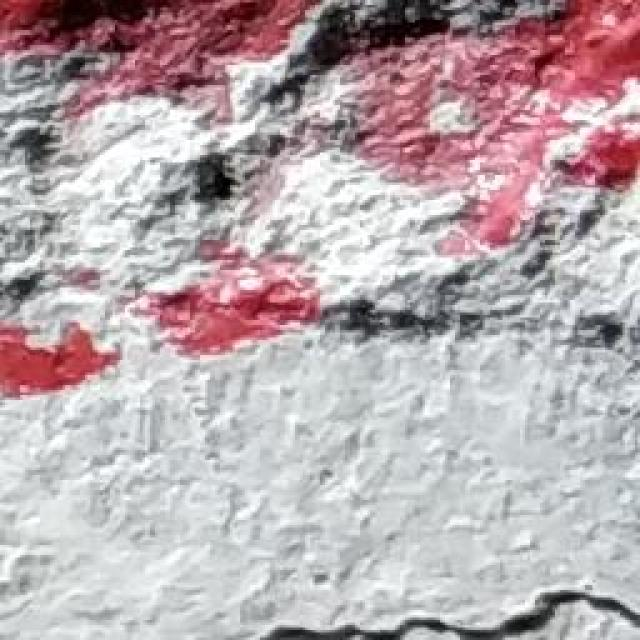Rippled: (0, 0, 640, 425)
Transverse: (210, 593, 640, 640)
